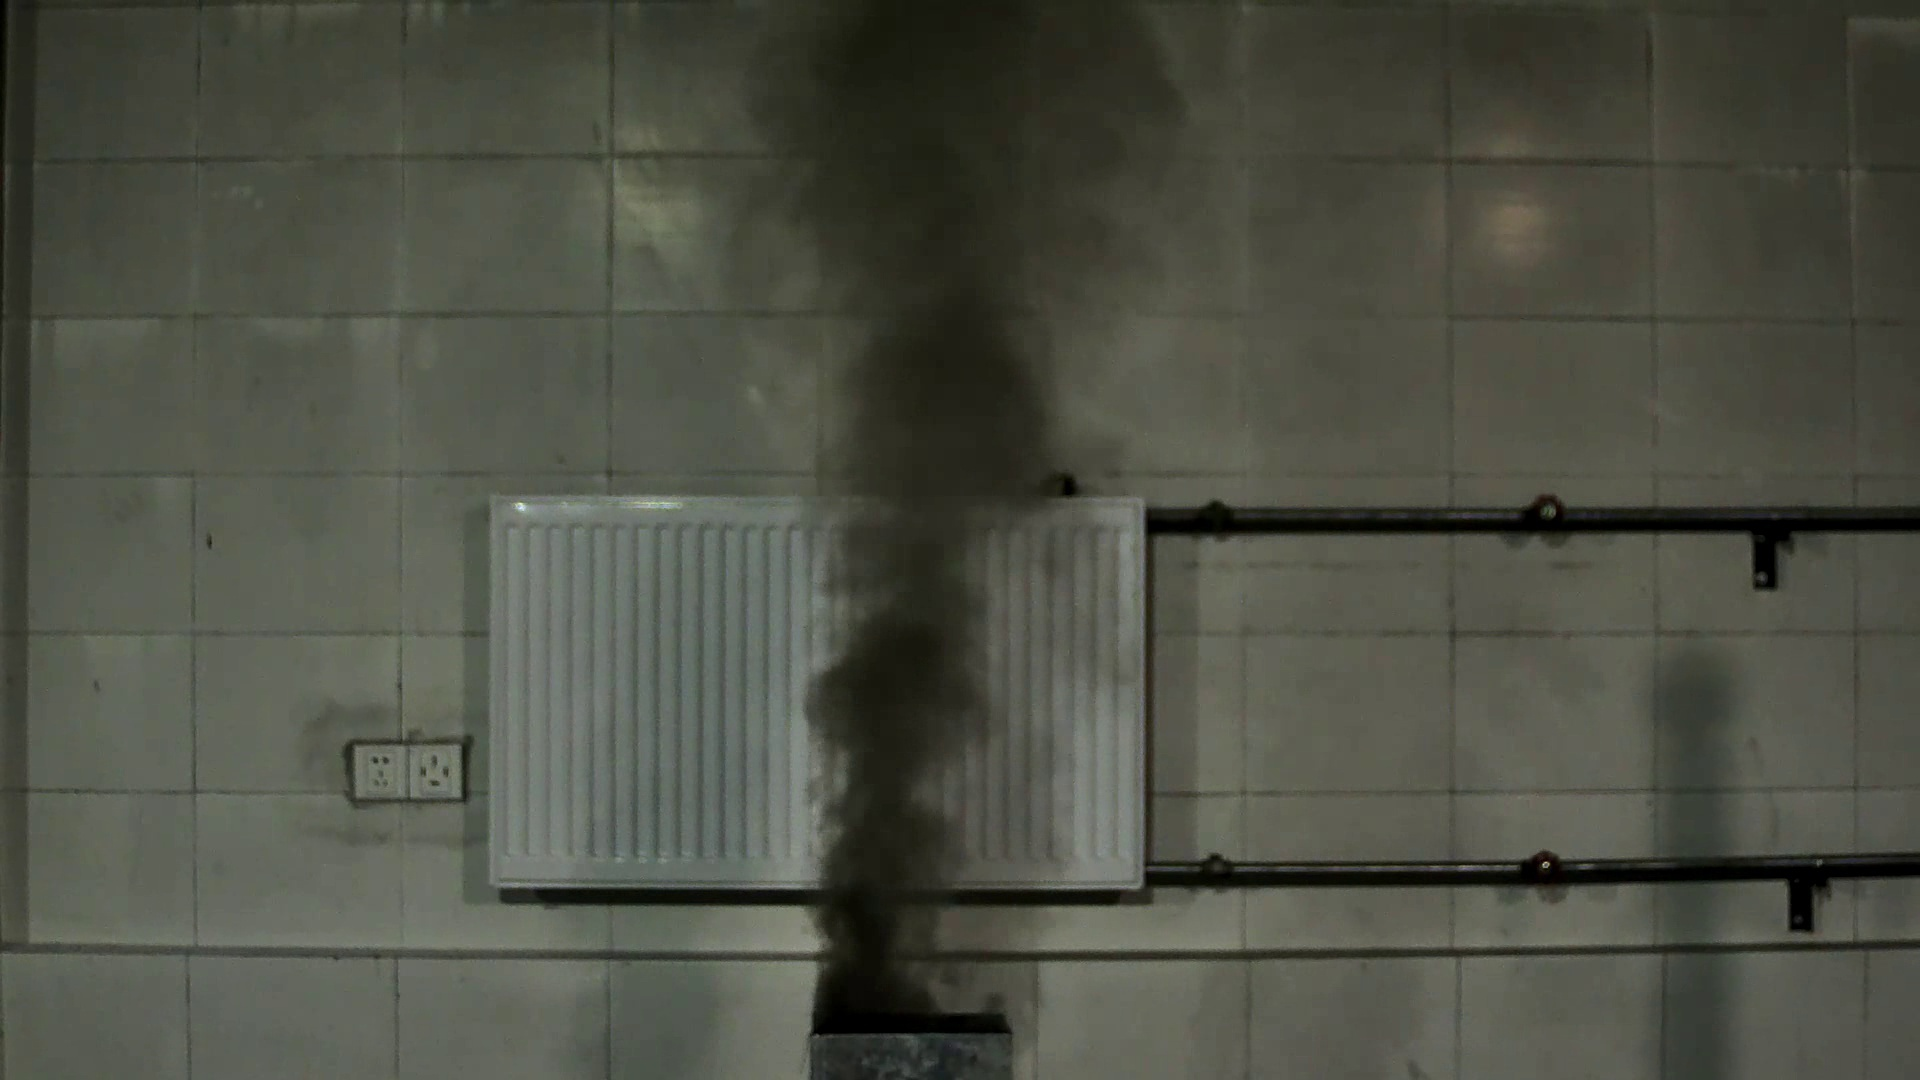smoke: (721, 32, 1135, 1021)
